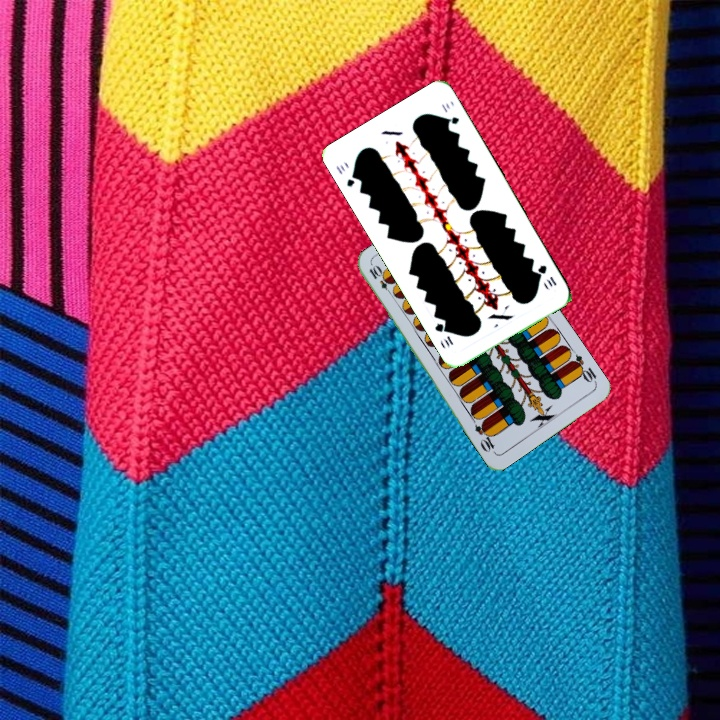E10: (365, 261, 396, 298), (567, 351, 599, 386)
G10: (332, 160, 360, 190), (533, 261, 559, 290)
